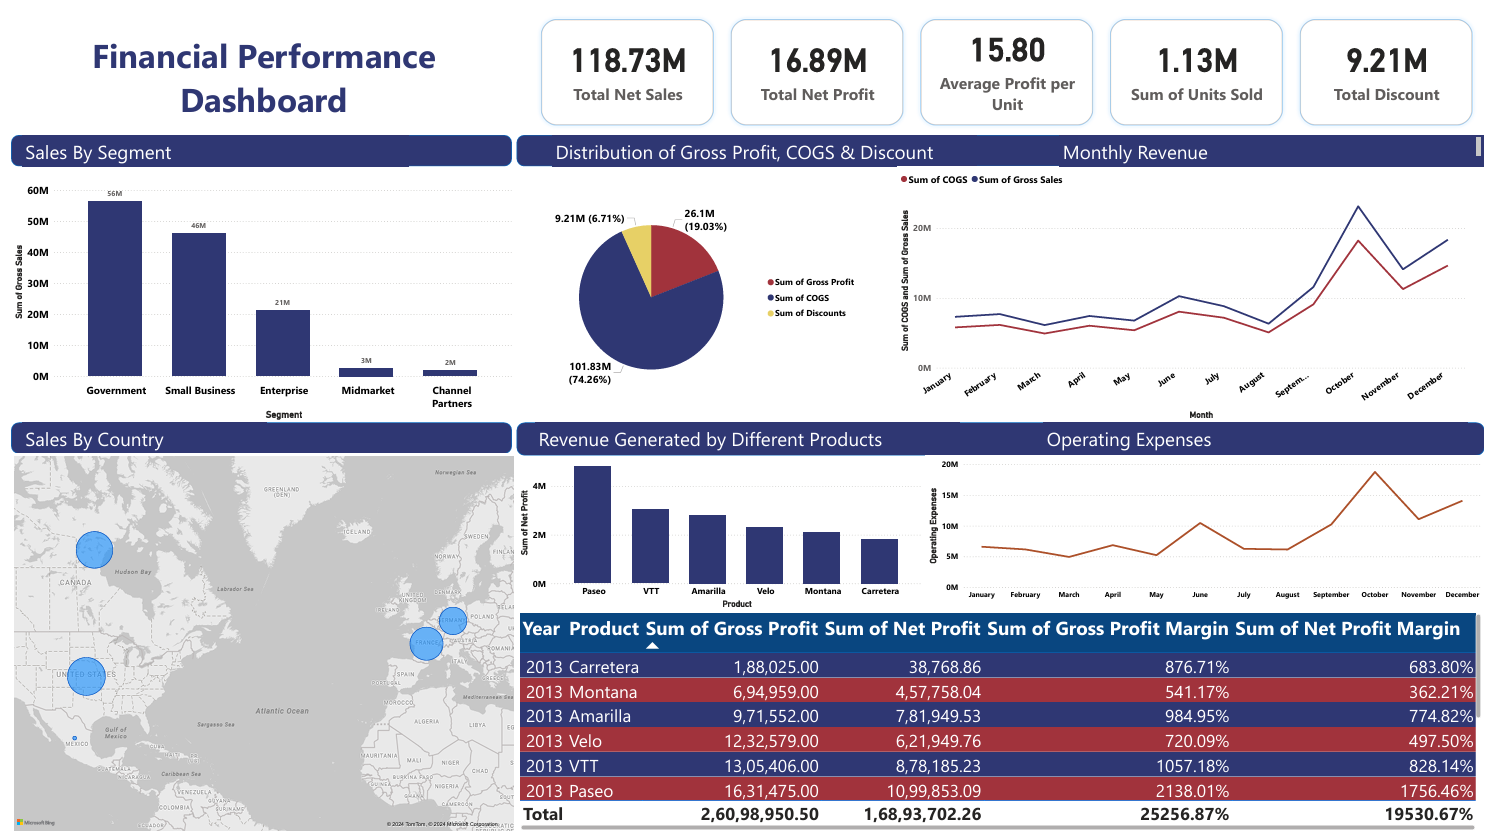

What the dashboard file says about the page in this screenshot:
{"tool":"powerbi","page":{"name":"Page 1","canvas":[2500,1400],"ordinal":0},"visuals":[{"type":"textbox","box":[0,0,857.6,211.7],"z":0},{"type":"cardVisual","fields":{"Data":["Financial Data.Total Net Sales","Financial Data.Total Net Profit","Financial Data.Average Net Profit per Unit","Sum(Financial Data.Units Sold)","Financial Data.Total Discount"]},"box":[884.4,0,1616.1,211.7],"z":1000},{"type":"shape","box":[0,212,850,53],"z":2000},{"type":"shape","box":[857.6,211.7,1642.9,53.6],"z":3000},{"type":"textbox","box":[18.8,211.7,656.6,53.6],"z":4000},{"type":"clusteredColumnChart","fields":{"Category":["Financial Data.Segment"],"Y":["Sum(Financial Data.Gross Sales)"]},"box":[0,286.8,857.6,412.7],"z":5000},{"type":"textbox","box":[919.3,211.7,721,53.6],"z":6000},{"type":"shape","box":[0,700,850,52.5],"z":7000},{"type":"textbox","box":[18.8,699.5,415.4,53.6],"z":8000},{"type":"map","fields":{"Category":["Financial Data.Country"],"Size":["Sum(Financial Data.Gross Sales)"]},"box":[0,753.1,857.6,645.9],"z":9000},{"type":"pieChart","fields":{"Y":["Sum(Financial Data.Gross Profit)","Sum(Financial Data.COGS)","Sum(Financial Data.Discounts)"]},"box":[885,275,560,425],"z":10000},{"type":"lineChart","fields":{"Y":["Sum(Financial Data.COGS)","Sum(Financial Data.Gross Sales)"],"Category":["Financial Data.Date.Variation.Date Hierarchy.Month"]},"box":[1503.5,265.3,970.2,434.2],"z":11000},{"type":"tableEx","fields":{"Values":["Financial Data.Date.Variation.Date Hierarchy.Year","Financial Data.Product","Sum(Financial Data.Gross Profit)","Sum(Financial Data.Net Profit)","Sum(Financial Data.Gross Profit Margin)","Sum(Financial Data.Net Profit Margin)"]},"box":[858.4,1020,1642,377],"z":12000},{"type":"clusteredColumnChart","fields":{"Y":["Sum(Financial Data.Net Profit)"],"Category":["Financial Data.Product"]},"box":[857.6,753.1,694.1,268],"z":12001},{"type":"shape","box":[857.6,699.5,1642.9,56.3],"z":12002},{"type":"textbox","box":[889.8,699.5,721,53.6],"z":12003},{"type":"lineChart","fields":{"Y":["Sum(Financial Data.Manufacturing Expenses)"],"Category":["Financial Data.Date.Variation.Date Hierarchy.Month"]},"box":[1552,756,948,265],"z":12004},{"type":"textbox","box":[1779.6,211.7,721,53.6],"z":12005},{"type":"textbox","box":[1752.8,699.5,721,53.6],"z":12006}]}

Visuals, with their boxes in screenshot pixels (x1, y1, x2, y2), scaled from the page's 2500x1400 canvas onto the 1486x836 screenshot:
textbox: x1=0 y1=0 x2=510 y2=126
cardVisual - Financial Data.Total Net Sales x Financial Data.Total Net Profit: x1=526 y1=0 x2=1485 y2=126
shape: x1=0 y1=127 x2=505 y2=158
shape: x1=510 y1=126 x2=1485 y2=158
textbox: x1=11 y1=126 x2=401 y2=158
clusteredColumnChart - Financial Data.Segment x Sum(Financial Data.Gross Sales): x1=0 y1=171 x2=510 y2=418
textbox: x1=546 y1=126 x2=975 y2=158
shape: x1=0 y1=418 x2=505 y2=449
textbox: x1=11 y1=418 x2=258 y2=450
map - Financial Data.Country x Sum(Financial Data.Gross Sales): x1=0 y1=450 x2=510 y2=835
pieChart - Sum(Financial Data.Gross Profit) x Sum(Financial Data.COGS): x1=526 y1=164 x2=859 y2=418
lineChart - Sum(Financial Data.COGS) x Sum(Financial Data.Gross Sales): x1=894 y1=158 x2=1470 y2=418
tableEx - Financial Data.Date.Variation.Date Hierarchy.Year x Financial Data.Product: x1=510 y1=609 x2=1485 y2=834
clusteredColumnChart - Sum(Financial Data.Net Profit) x Financial Data.Product: x1=510 y1=450 x2=922 y2=610
shape: x1=510 y1=418 x2=1485 y2=451
textbox: x1=529 y1=418 x2=957 y2=450
lineChart - Sum(Financial Data.Manufacturing Expenses) x Financial Data.Date.Variation.Date Hierarchy.Month: x1=923 y1=451 x2=1485 y2=610
textbox: x1=1058 y1=126 x2=1485 y2=158
textbox: x1=1042 y1=418 x2=1470 y2=450
